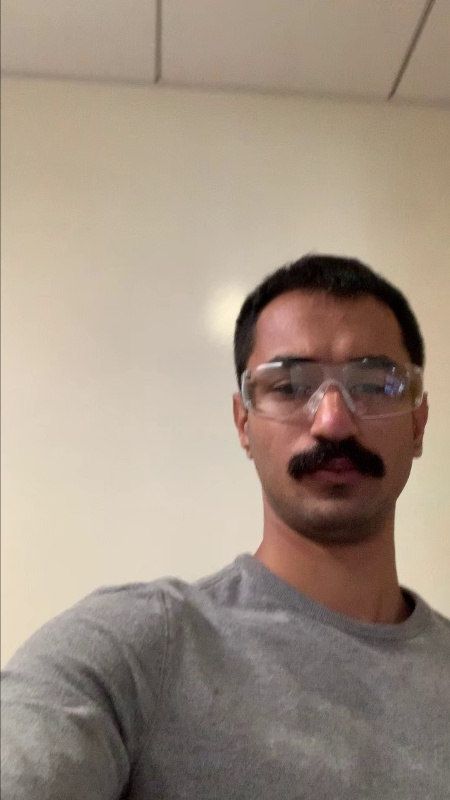glasses: (237, 350, 429, 429)
